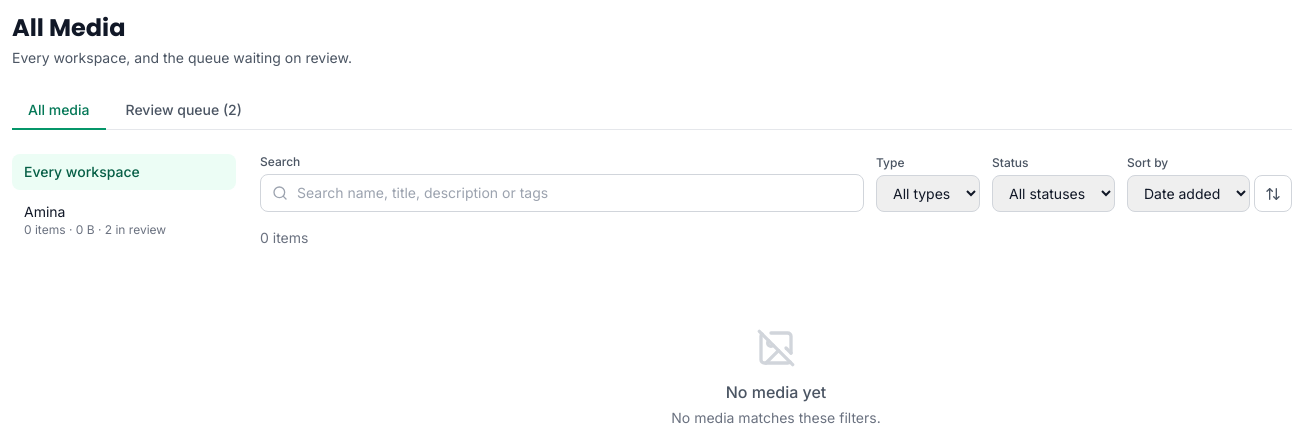
AdminMediaLibrary › switches the review queue tab to the submitted-status view across every workspace
Click the button "Review queue (2)".
click(184, 111)  # box left=110, top=92, right=258, bottom=130
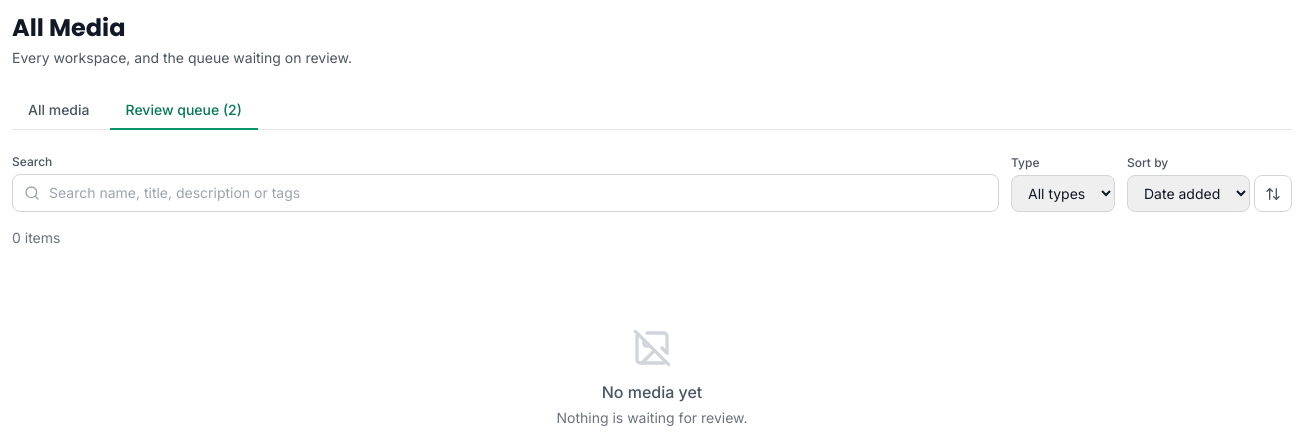
Check: the button "Amina" is gone
